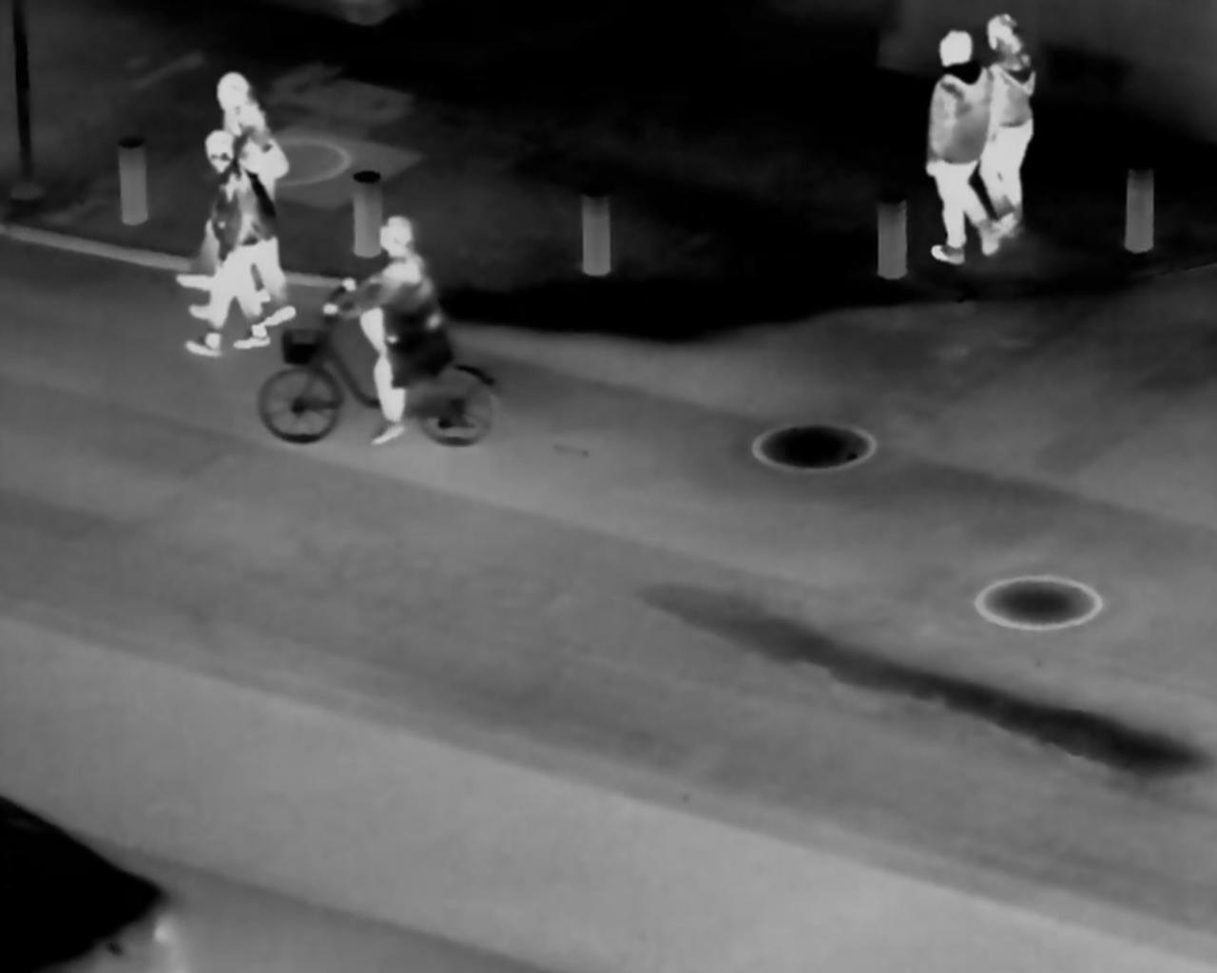person: (325, 217, 454, 457), (179, 136, 276, 358), (921, 23, 995, 265), (977, 14, 1045, 254), (213, 66, 300, 245)
